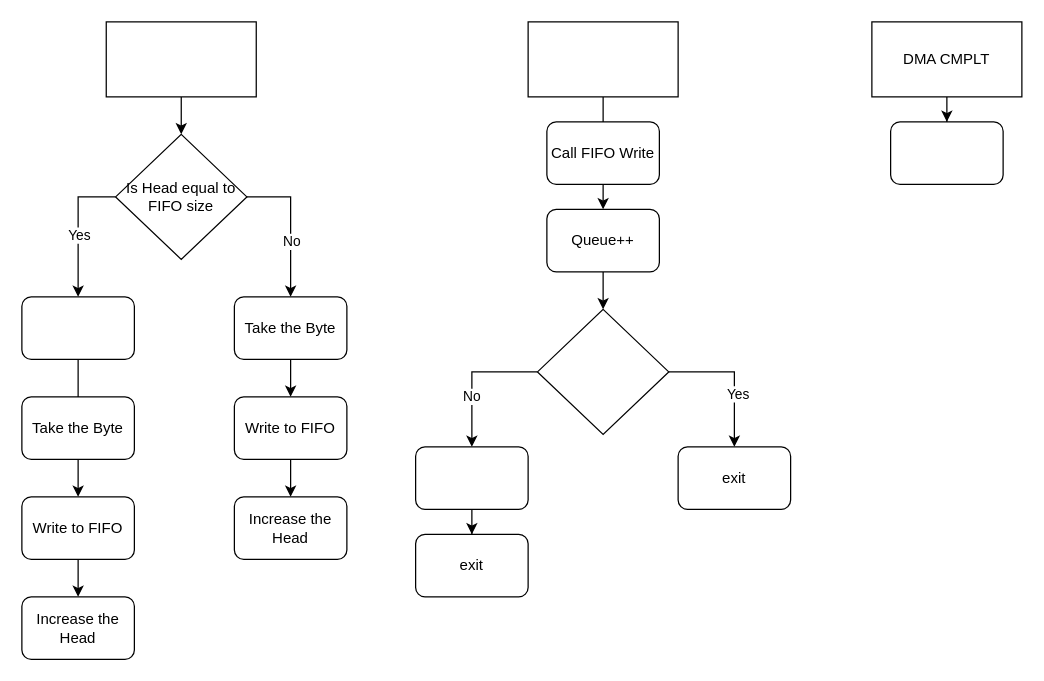
The diagram is 1044 pixels wide and 681 high, and some of its shapes have lost their labels. The centre of each missing label's shape, as x and y in pixels:
"FIFO Write" goes at (x=180, y=59).
"Head = 0" goes at (x=77, y=327).
"Head == Tail" goes at (x=602, y=371).
"Queue--" goes at (x=946, y=152).
"UART_DMA_Write" goes at (x=471, y=477).
"Write Byte" goes at (x=602, y=59).
